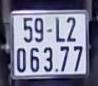0: (14, 46, 28, 74)
2: (65, 16, 78, 43)
3: (42, 45, 54, 73)
5: (19, 17, 33, 44)
6: (28, 46, 39, 73)
7: (58, 45, 70, 73), (73, 44, 84, 73)
9: (34, 14, 45, 44)
L: (53, 14, 67, 43)
